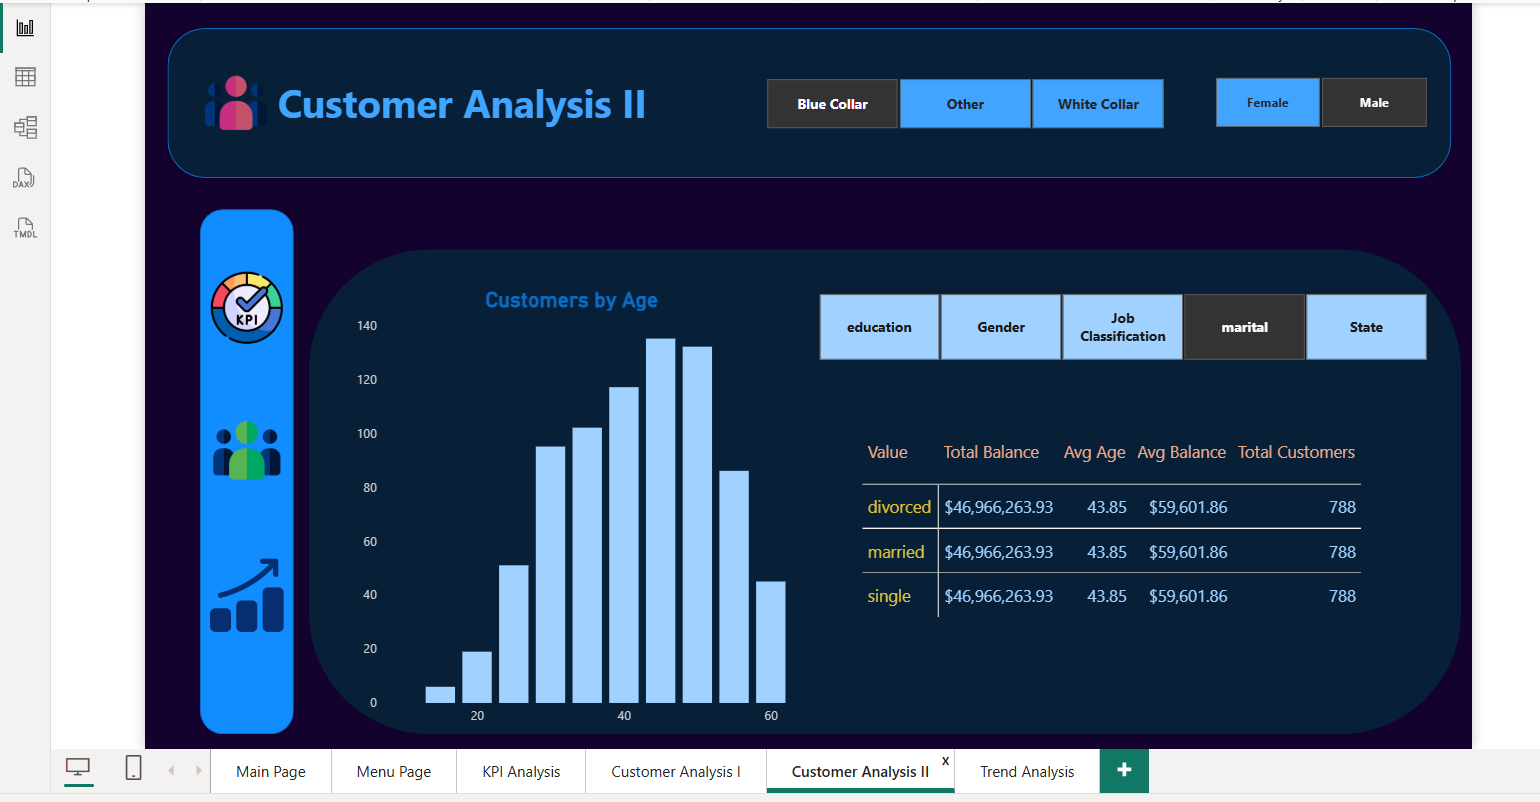

What the dashboard file says about the page in this screenshot:
{"tool":"powerbi","page":{"name":"Customer Analysis II","canvas":[1280,720],"ordinal":4},"visuals":[{"type":"shape","box":[21.7,24.1,1239,144.8],"z":0},{"type":"shape","box":[158,237.7,1112.3,468.1],"z":1000},{"type":"pivotTable","fields":{"Values":["Measure.Total Balance","Measure.Avg Age","Measure.Avg Balance","Measure.Total Customers"],"Rows":["Dim.Value"]},"box":[687.7,406.6,510.3,236.5],"z":2000},{"type":"slicer","fields":{"Values":["Dim.Name"]},"box":[624.9,273.9,635.8,77.2],"z":3000},{"type":"clusteredColumnChart","title":"Customers by Age","fields":{"Y":["Measure.Total Customers"],"Category":["Bank data.Age (bins)"]},"box":[199.1,273.9,425.9,431.9],"z":4000},{"type":"shape","box":[53.1,199.1,90.5,506.7],"z":5000},{"type":"image","box":[53.1,254.6,90.5,79.6],"z":6000},{"type":"image","box":[53.1,394.5,90.5,74.8],"z":7000},{"type":"image","box":[53.1,524.8,90.5,94.1],"z":8000},{"type":"textbox","box":[123.1,66.4,381.2,61.5],"z":9000},{"type":"slicer","fields":{"Values":["Bank data.Job Classification"]},"box":[574.3,66.4,433.1,61.5],"z":10000},{"type":"slicer","fields":{"Values":["Bank data.Gender"]},"box":[1007.4,65.1,253.4,61.5],"z":11000},{"type":"image","box":[53.1,61.5,70,70],"z":12000}]}

Visuals, with their boxes on the page's 1280x720 design canvas (x1, y1, x2, y2). These are canvas units, not pixel positions in the 1540x802 screenshot, which may show the page scaled, cropped or inside an application window:
shape: {"x1": 22, "y1": 24, "x2": 1261, "y2": 169}
shape: {"x1": 158, "y1": 238, "x2": 1270, "y2": 706}
pivotTable - Measure.Total Balance x Measure.Avg Age: {"x1": 688, "y1": 407, "x2": 1198, "y2": 643}
slicer - Dim.Name: {"x1": 625, "y1": 274, "x2": 1261, "y2": 351}
"Customers by Age" clusteredColumnChart: {"x1": 199, "y1": 274, "x2": 625, "y2": 706}
shape: {"x1": 53, "y1": 199, "x2": 144, "y2": 706}
image: {"x1": 53, "y1": 255, "x2": 144, "y2": 334}
image: {"x1": 53, "y1": 394, "x2": 144, "y2": 469}
image: {"x1": 53, "y1": 525, "x2": 144, "y2": 619}
textbox: {"x1": 123, "y1": 66, "x2": 504, "y2": 128}
slicer - Bank data.Job Classification: {"x1": 574, "y1": 66, "x2": 1007, "y2": 128}
slicer - Bank data.Gender: {"x1": 1007, "y1": 65, "x2": 1261, "y2": 127}
image: {"x1": 53, "y1": 62, "x2": 123, "y2": 132}
